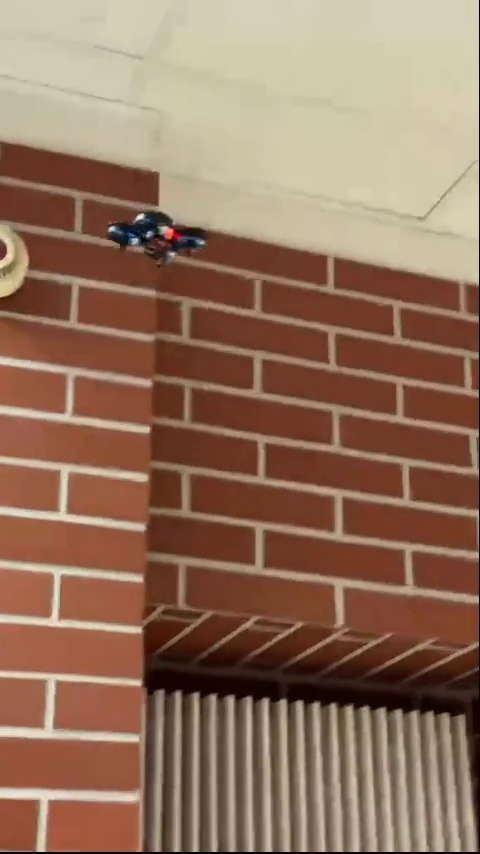drone: (113, 208, 212, 268)
